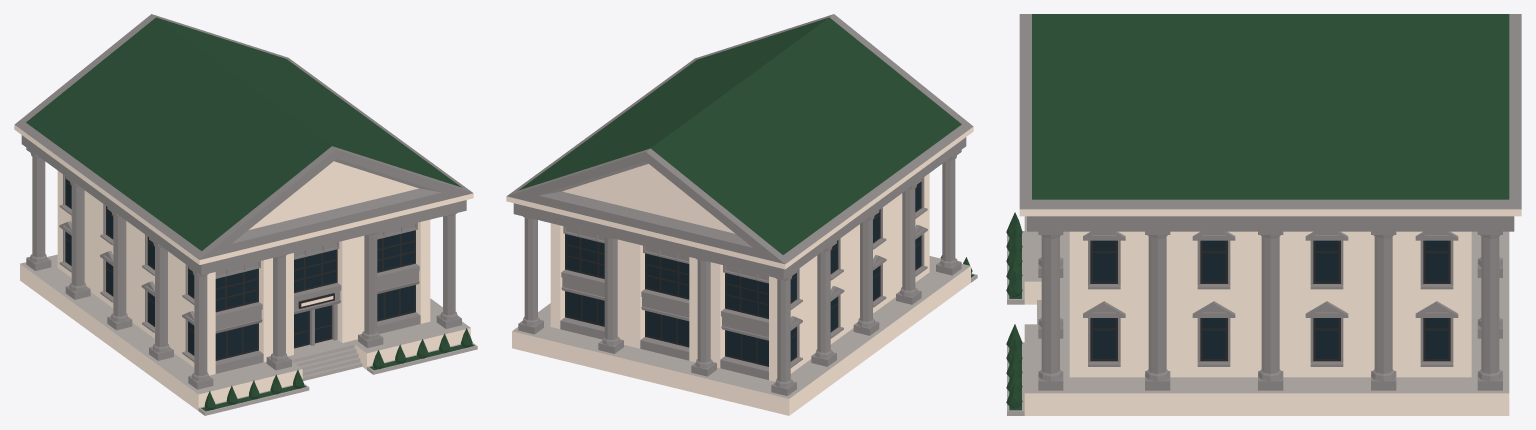
File: building-bank.glb
3 views of the same model, side by side, from view 1: azimuth 30°, elevation 25°; view 2: azimuth 150°, elevation 25°; view 3: azimuth 270°, elevation 25° (orthographic). The views are drawn at different scales.
Visible parts, largest first — view 1: building-bank; view 2: building-bank; view 3: building-bank.
Part boxes in pixels (x1,y1,x2,y2): building-bank: [14, 14, 477, 415]; building-bank: [506, 14, 977, 415]; building-bank: [1006, 14, 1521, 415].
Size of the model in its own units: 17.1 by 13.7 by 20.53.
Materials: 1 (1 with a texture image).
